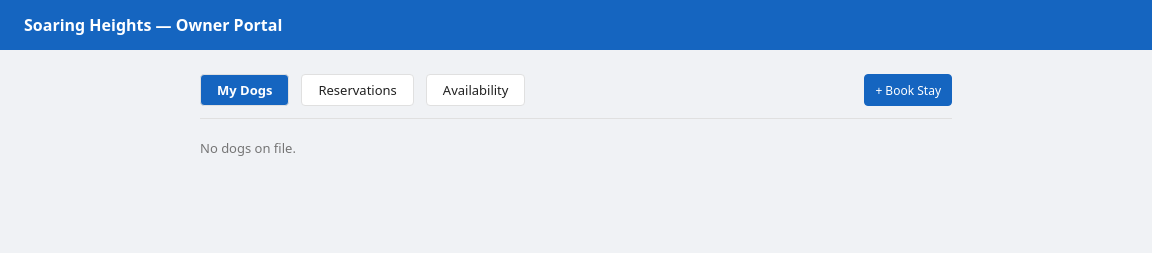
Test: PortalHome — Reservations tab › renders Scheduled status for an upcoming reservation
The width and height of the screenshot is (1152, 253).
Check: the button "My Dogs" is shown, box [200, 74, 289, 106]
Step 1. Click the button "Reservations" → click(358, 90), box [301, 74, 414, 106]
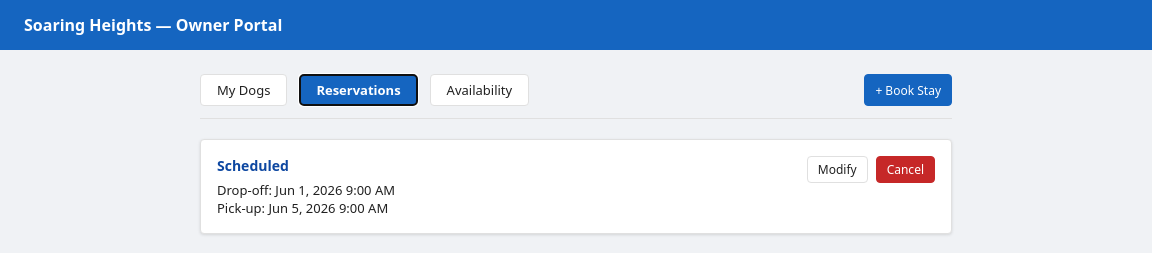
Check: the text "Scheduled" is shown, box [217, 156, 289, 175]
